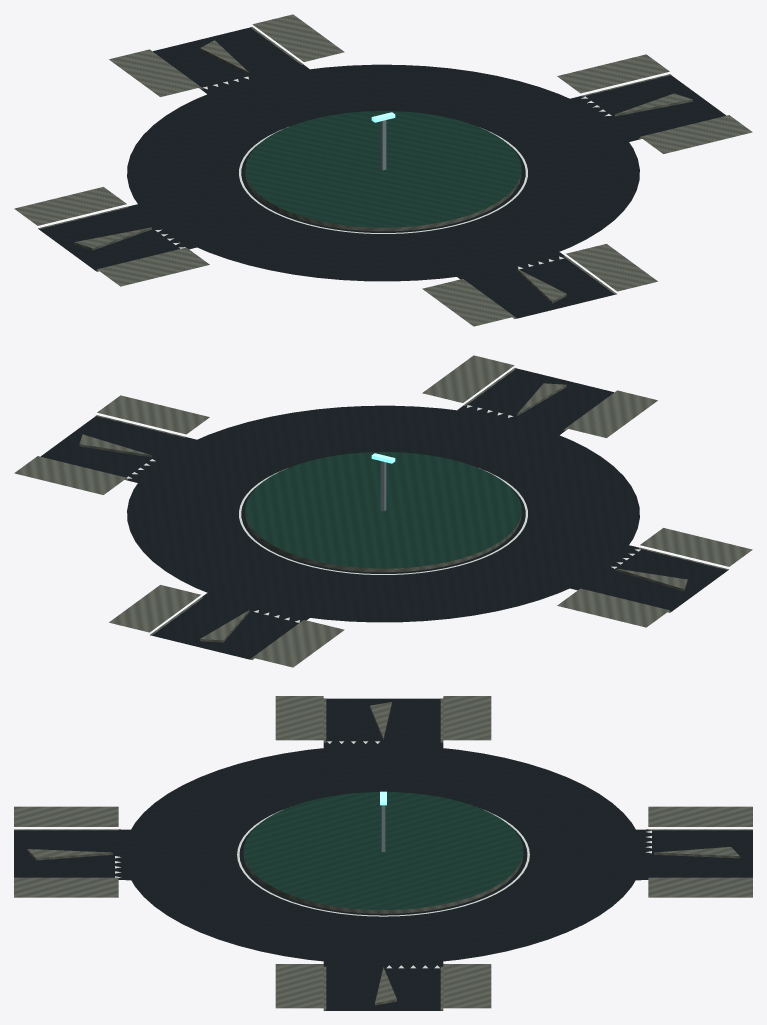
The model's file is junc_roundabout_1lane_LOD0.glb.
3 views of the same model, one above another, from view 1: azimuth 30°, elevation 25°; view 2: azimuth 150°, elevation 25°; view 3: azimuth 270°, elevation 25° (orthographic).
Visible parts, largest first — view 1: junc_roundabout_1lane__surface, junc_roundabout_1lane__center_island, junc_roundabout_1lane__entry_ports, junc_roundabout_1lane__entry_sidewalks, junc_roundabout_1lane__splitter_islands; view 2: junc_roundabout_1lane__surface, junc_roundabout_1lane__center_island, junc_roundabout_1lane__entry_ports, junc_roundabout_1lane__entry_sidewalks, junc_roundabout_1lane__splitter_islands; view 3: junc_roundabout_1lane__surface, junc_roundabout_1lane__center_island, junc_roundabout_1lane__entry_ports, junc_roundabout_1lane__entry_sidewalks, junc_roundabout_1lane__splitter_islands.
Boxes of the visible parts, left/top/right/bottom form: junc_roundabout_1lane__surface: left=127, top=64, right=639, bottom=281; junc_roundabout_1lane__center_island: left=239, top=111, right=527, bottom=233; junc_roundabout_1lane__entry_ports: left=39, top=27, right=725, bottom=318; junc_roundabout_1lane__entry_sidewalks: left=14, top=14, right=752, bottom=326; junc_roundabout_1lane__splitter_islands: left=74, top=40, right=692, bottom=303; junc_roundabout_1lane__surface: left=127, top=405, right=639, bottom=622; junc_roundabout_1lane__center_island: left=239, top=452, right=527, bottom=574; junc_roundabout_1lane__entry_ports: left=41, top=368, right=727, bottom=659; junc_roundabout_1lane__entry_sidewalks: left=14, top=355, right=752, bottom=667; junc_roundabout_1lane__splitter_islands: left=79, top=383, right=687, bottom=642; junc_roundabout_1lane__surface: left=124, top=745, right=642, bottom=964; junc_roundabout_1lane__center_island: left=237, top=792, right=529, bottom=916; junc_roundabout_1lane__entry_ports: left=14, top=698, right=752, bottom=1010; junc_roundabout_1lane__entry_sidewalks: left=14, top=696, right=752, bottom=1010; junc_roundabout_1lane__splitter_islands: left=27, top=702, right=739, bottom=1005.
Size of the model in its own units: 37 by 3.2 by 37.
Materials: 7 (4 with a texture image).
